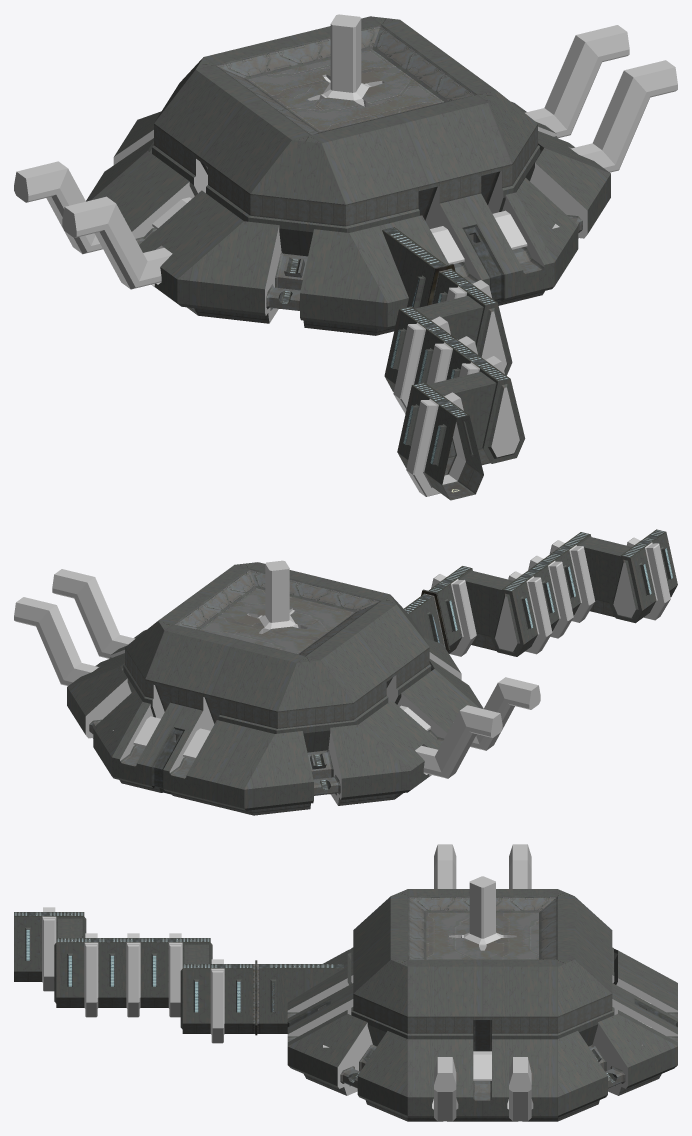
The picture shows the model from 3 angles, top to bottom: view 1: azimuth 30°, elevation 25°; view 2: azimuth 150°, elevation 25°; view 3: azimuth 270°, elevation 25°; orthographic projection. The views are drawn at different scales.
Parts seen in each view (by area): view 1: -Clusters; view 2: -Clusters; view 3: -Clusters.
Part boxes in pixels (box(x1,y1,x2,y2)): -Clusters: box(14, 14, 677, 500); -Clusters: box(14, 529, 677, 815); -Clusters: box(14, 844, 677, 1121).
Bounding box in the file's own units: 2884 × 3537 × 1013.
